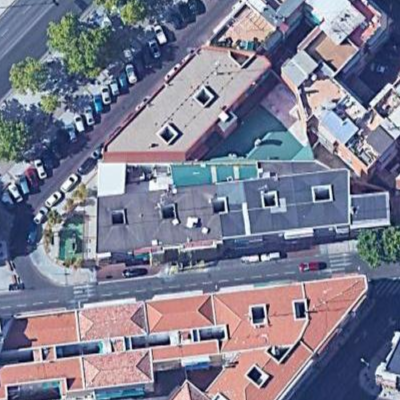tree: (48, 20, 112, 80), (1, 104, 37, 164), (356, 223, 400, 270), (7, 57, 53, 98), (116, 1, 151, 32)
